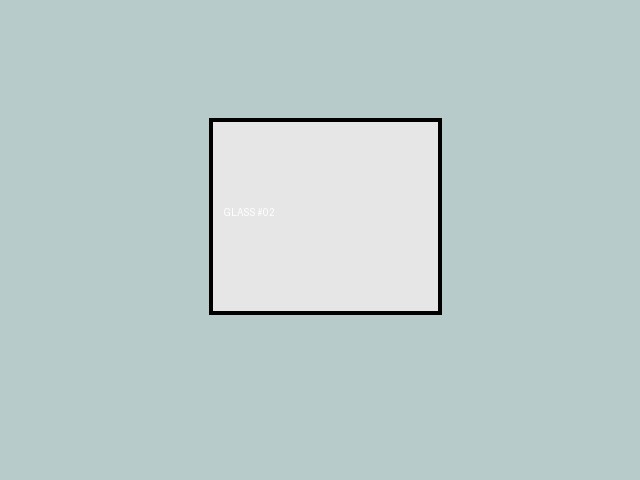water_glass: (209, 118, 441, 314)
